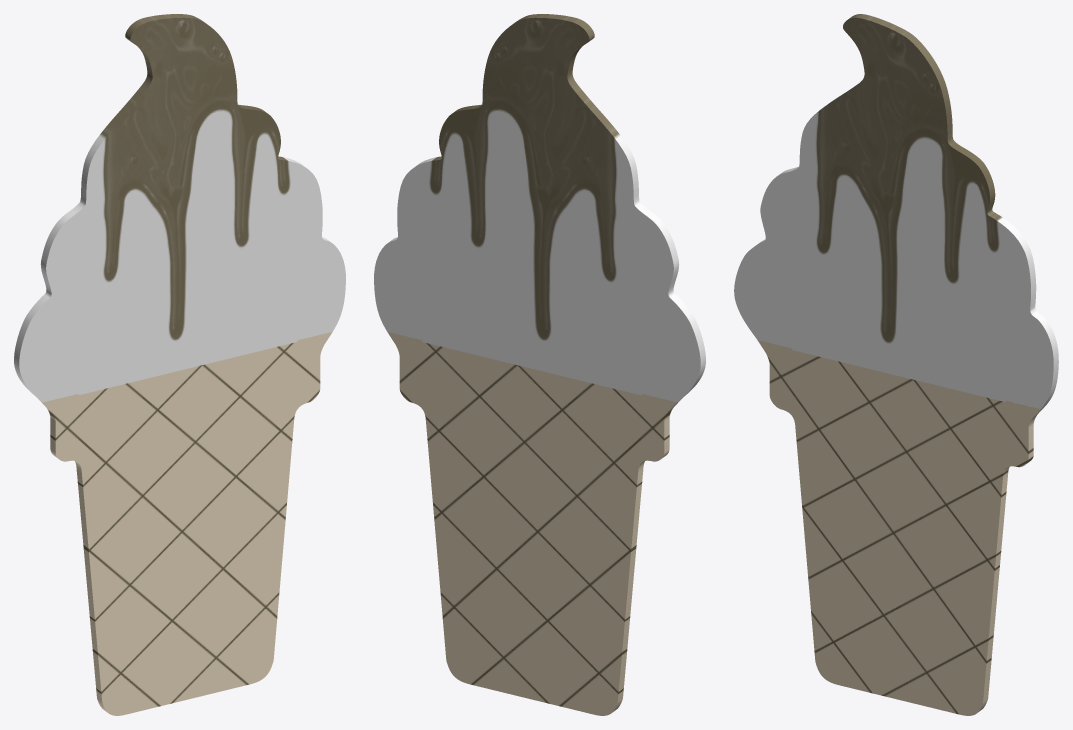
The model's file is Ice cream.fbx.
3 views of the same model, side by side, from view 1: azimuth 30°, elevation 25°; view 2: azimuth 150°, elevation 25°; view 3: azimuth 330°, elevation 25° (orthographic). The views are drawn at different scales.
Parts seen in each view (by area): view 1: Ice cream; view 2: Ice cream; view 3: Ice cream.
Part boxes in pixels (<box>): Ice cream: <box>14,14,345,715</box>; Ice cream: <box>374,14,705,715</box>; Ice cream: <box>734,14,1058,715</box>.
Bounding box in the file's own units: 150 × 301 × 4.16.
1 material, 1 textured.
